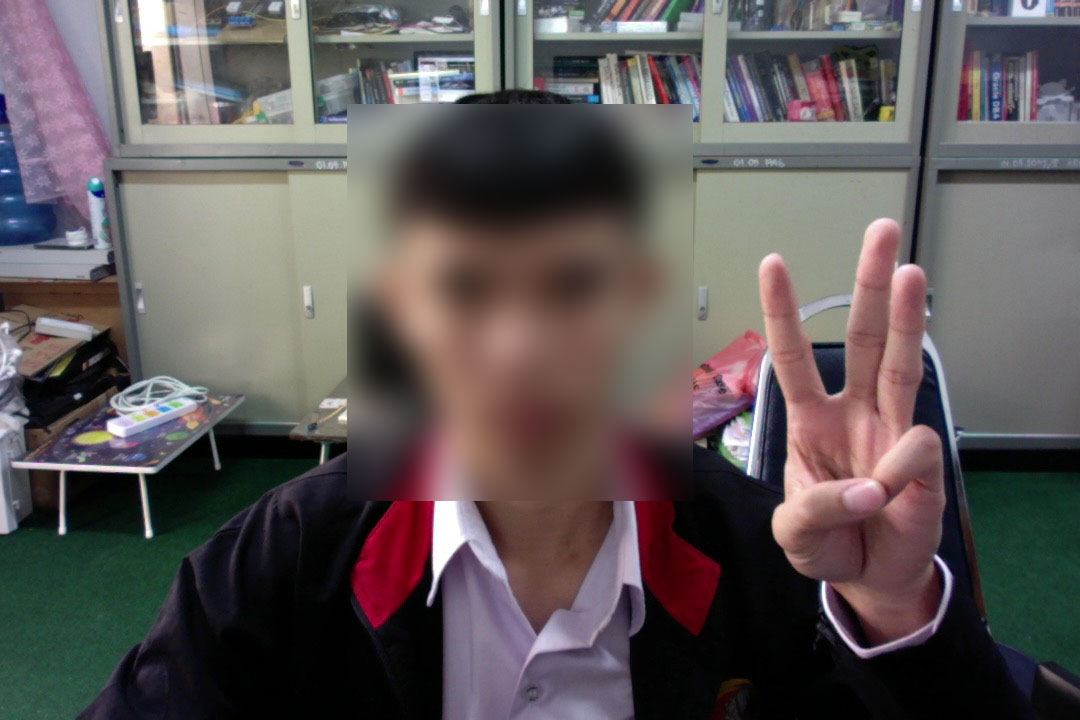wor: (742, 218, 955, 600)
